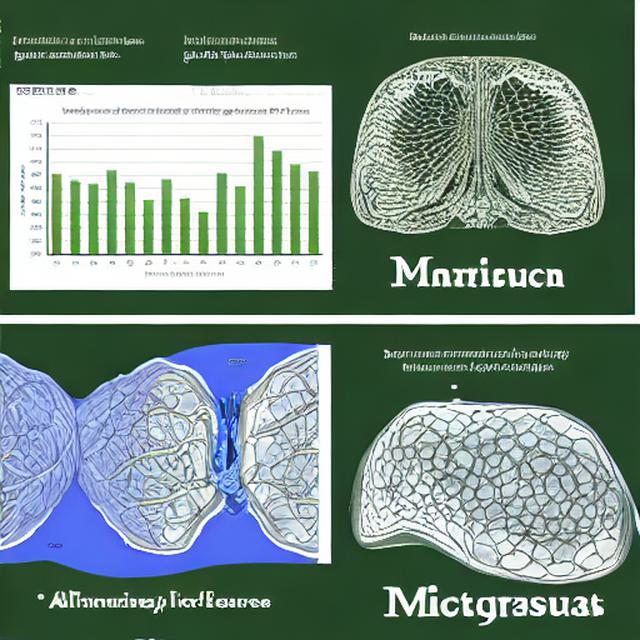Graph: (12, 98, 329, 287)
